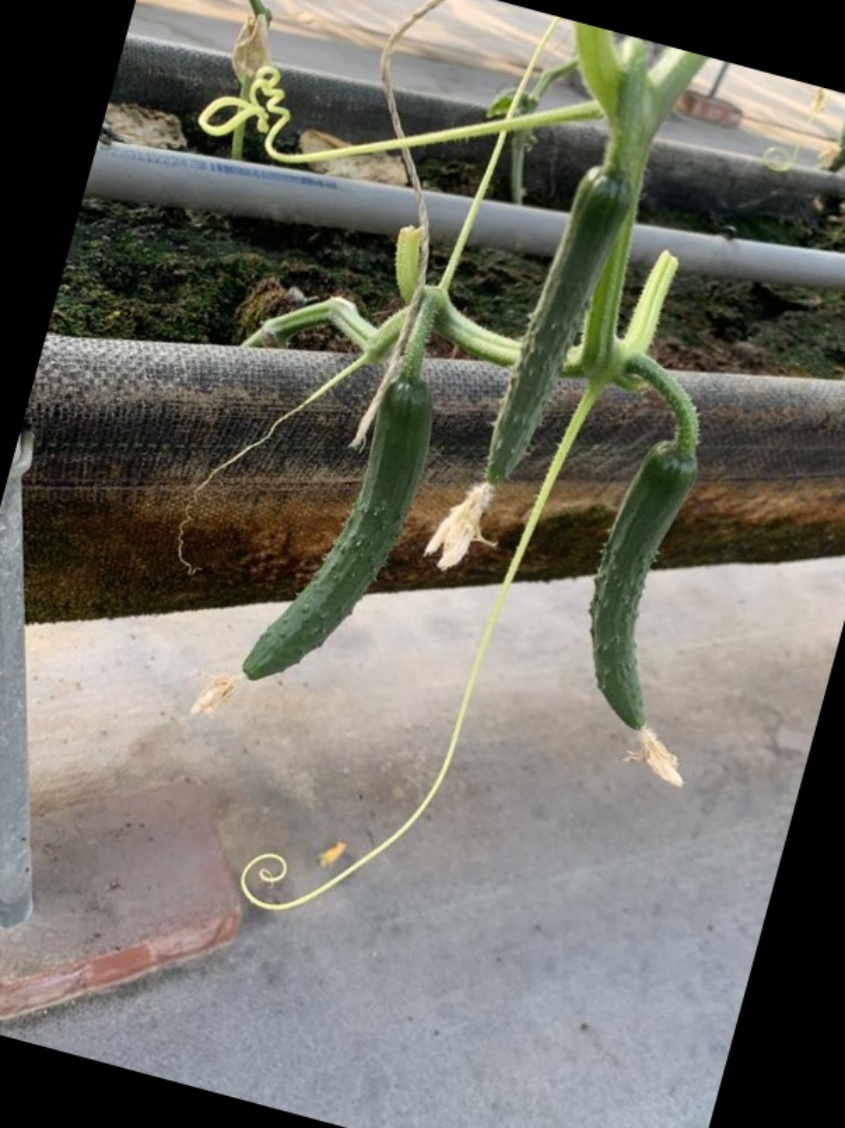growth: (572, 437, 704, 772)
